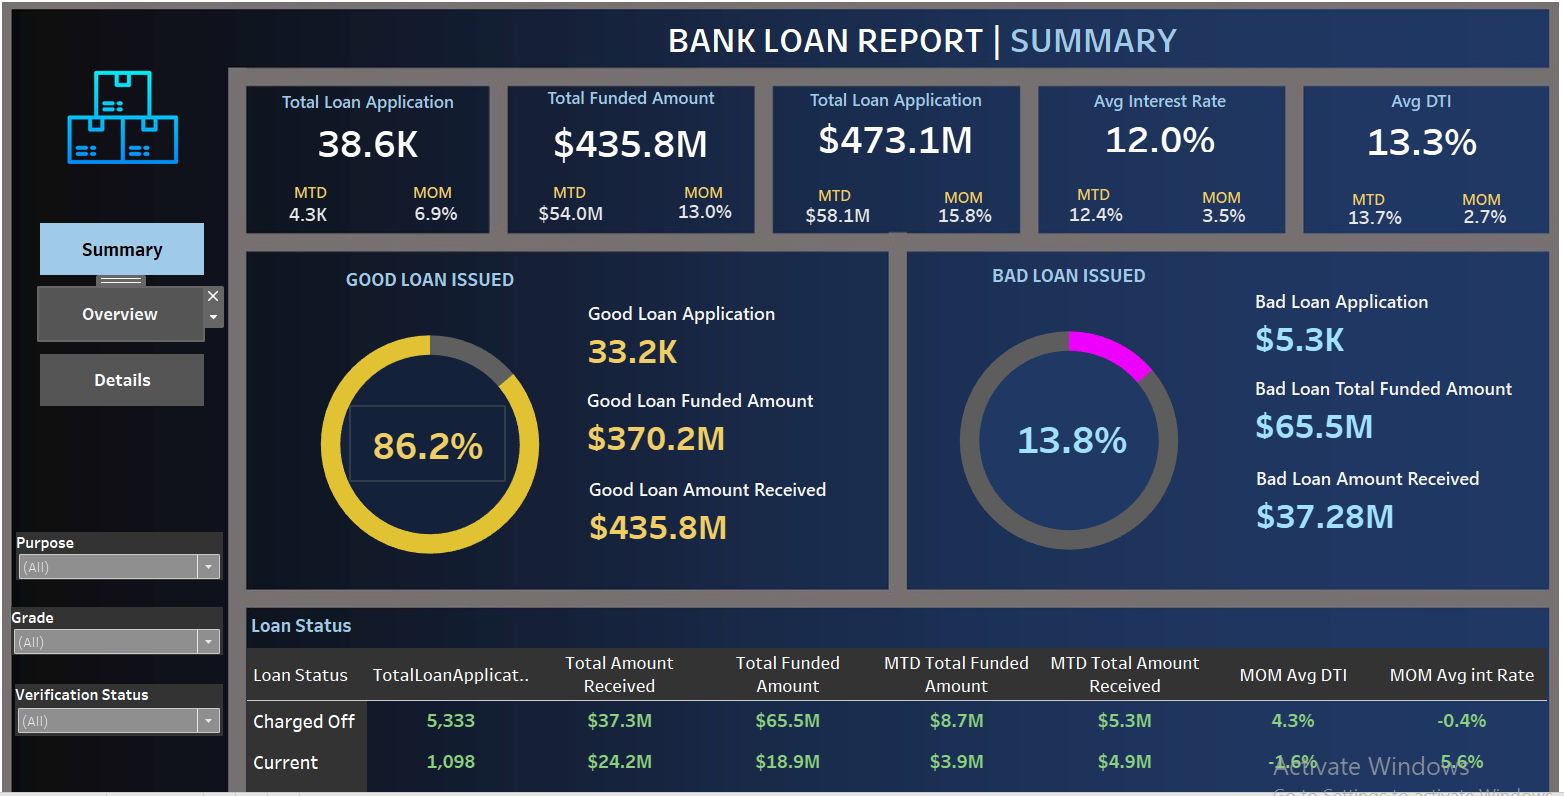

What the dashboard file says about the page in this screenshot:
{"tool":"tableau","page":{"name":"SUMMARY","canvas":[1600,900],"ordinal":2},"visuals":[{"type":"image","param":"Image/Tableau Background 1.jpg","box":[8,8,1584,884]},{"type":"text","box":[683,26,553,45]},{"type":"image","param":"Image/Avg Price Icon 1.png","box":[76,54,131,143]},{"type":"worksheet","title":"Total Funded Amount","mark":"Automatic","box":[544,92,212,82]},{"type":"worksheet","title":"Total Amount Received","mark":"Automatic","box":[797,94,236,69]},{"type":"worksheet","title":"Avg Interest Rate","mark":"Automatic","box":[1097,95,164,67]},{"type":"worksheet","title":"Avg DTI","mark":"Automatic","box":[1345,95,191,71]},{"type":"worksheet","title":"Total Loan Application","mark":"Automatic","box":[268,96,238,74]},{"type":"text","box":[286,188,87,27]},{"type":"text","box":[408,188,87,27]},{"type":"text","box":[545,188,87,27]},{"type":"text","box":[679,188,87,27]},{"type":"text","box":[1069,190,87,27]},{"type":"text","box":[810,191,87,27]},{"type":"text","box":[939,193,87,27]},{"type":"text","box":[1197,193,87,27]},{"type":"worksheet","title":"MTD Avg INT Rate","mark":"Automatic","box":[1055,195,120,58]},{"type":"text","box":[1344,195,87,27]},{"type":"text","box":[1457,195,87,27]},{"type":"worksheet","title":"MOM Avg INT Rate","mark":"Automatic","box":[1193,197,99,56]},{"type":"worksheet","title":"MOM Total Funded Amount","mark":"Automatic","box":[693,200,62,41]},{"type":"worksheet","title":"MTD Total Amount Received","mark":"Automatic","box":[816,200,81,50]},{"type":"worksheet","title":"MOM Avg DTI","mark":"Automatic","box":[1448,200,112,52]},{"type":"worksheet","title":"MTD Total Funded Amount","mark":"Automatic","box":[552,204,75,37]},{"type":"worksheet","title":"MOM Total Amount Received","mark":"Automatic","box":[931,204,105,42]},{"type":"worksheet","title":"MTD Avg DTI","mark":"Automatic","box":[1346,204,96,45]},{"type":"worksheet","title":"MTD Total Loan Application","mark":"Automatic","box":[278,208,98,32]},{"type":"worksheet","title":"MOM Loan Application","mark":"Automatic","box":[428,209,54,28]},{"type":"dashboard-object","box":[59,233,164,52]},{"type":"worksheet","title":"Bad Loan Issued","mark":"Pie","rows":["Calculation_1380916258121629705","Calculation_1380916258121629705"],"box":[938,268,300,325]},{"type":"worksheet","title":"Good Loan Issued","mark":"Pie","rows":["Calculation_1380916258121629705","Calculation_1380916258121629705"],"box":[299,272,300,325]},{"type":"worksheet","title":"Bad Loan Application","mark":"Automatic","box":[1266,291,300,75]},{"type":"dashboard-object","box":[58,298,164,52]},{"type":"worksheet","title":"Good Loan Application","mark":"Automatic","box":[599,303,300,75]},{"type":"dashboard-object","box":[59,364,164,52]},{"type":"worksheet","title":"Bad Loan Total Funded Amount","mark":"Automatic","box":[1266,378,300,75]},{"type":"worksheet","title":"Good Loan Funded Amount","mark":"Automatic","box":[598,390,300,75]},{"type":"worksheet","title":"Bad Loan %","mark":"Automatic","box":[1024,401,133,94]},{"type":"worksheet","title":"Good Loan Application%","mark":"Automatic","box":[370,417,153,73]},{"type":"worksheet","title":"Bad Loan Amount Received","mark":"Automatic","box":[1267,468,300,75]},{"type":"worksheet","title":"Good Loan Amount Received","mark":"Automatic","box":[600,479,300,75]},{"type":"filter","title":"Good Loan Issued","param":"[federated.0sdrijq1i1pcek18e7fb21wz9e7l].[none:purpose:nk]","box":[35,542,207,48]},{"type":"filter","title":"Good Loan Issued","param":"[federated.0sdrijq1i1pcek18e7fb21wz9e7l].[none:grade:nk]","box":[30,617,212,48]},{"type":"worksheet","title":"Loan Status","mark":"Automatic","rows":["loan_status"],"box":[266,618,1300,256]},{"type":"filter","title":"Good Loan Issued","param":"[federated.0sdrijq1i1pcek18e7fb21wz9e7l].[none:verification_status:nk]","box":[34,694,208,52]}]}

Visuals, with their boxes on the page's 1600x900 design canvas (x1, y1, x2, y2). These are canvas units, not pixel positions in the 1564x796 screenshot, which may show the page scaled, cropped or inside an application window:
image: 8, 8, 1592, 892
text: 683, 26, 1236, 71
image: 76, 54, 207, 197
"Total Funded Amount" worksheet: 544, 92, 756, 174
"Total Amount Received" worksheet: 797, 94, 1033, 163
"Avg Interest Rate" worksheet: 1097, 95, 1261, 162
"Avg DTI" worksheet: 1345, 95, 1536, 166
"Total Loan Application" worksheet: 268, 96, 506, 170
text: 286, 188, 373, 215
text: 408, 188, 495, 215
text: 545, 188, 632, 215
text: 679, 188, 766, 215
text: 1069, 190, 1156, 217
text: 810, 191, 897, 218
text: 939, 193, 1026, 220
text: 1197, 193, 1284, 220
"MTD Avg INT Rate" worksheet: 1055, 195, 1175, 253
text: 1344, 195, 1431, 222
text: 1457, 195, 1544, 222
"MOM Avg INT Rate" worksheet: 1193, 197, 1292, 253
"MOM Total Funded Amount" worksheet: 693, 200, 755, 241
"MTD Total Amount Received" worksheet: 816, 200, 897, 250
"MOM Avg DTI" worksheet: 1448, 200, 1560, 252
"MTD Total Funded Amount" worksheet: 552, 204, 627, 241
"MOM Total Amount Received" worksheet: 931, 204, 1036, 246
"MTD Avg DTI" worksheet: 1346, 204, 1442, 249
"MTD Total Loan Application" worksheet: 278, 208, 376, 240
"MOM Loan Application" worksheet: 428, 209, 482, 237
dashboard-object: 59, 233, 223, 285
"Bad Loan Issued" worksheet (Pie marks): 938, 268, 1238, 593
"Good Loan Issued" worksheet (Pie marks): 299, 272, 599, 597
"Bad Loan Application" worksheet: 1266, 291, 1566, 366
dashboard-object: 58, 298, 222, 350
"Good Loan Application" worksheet: 599, 303, 899, 378
dashboard-object: 59, 364, 223, 416
"Bad Loan Total Funded Amount" worksheet: 1266, 378, 1566, 453
"Good Loan Funded Amount" worksheet: 598, 390, 898, 465
"Bad Loan %" worksheet: 1024, 401, 1157, 495
"Good Loan Application%" worksheet: 370, 417, 523, 490
"Bad Loan Amount Received" worksheet: 1267, 468, 1567, 543
"Good Loan Amount Received" worksheet: 600, 479, 900, 554
"Good Loan Issued" filter: 35, 542, 242, 590
"Good Loan Issued" filter: 30, 617, 242, 665
"Loan Status" worksheet: 266, 618, 1566, 874
"Good Loan Issued" filter: 34, 694, 242, 746
